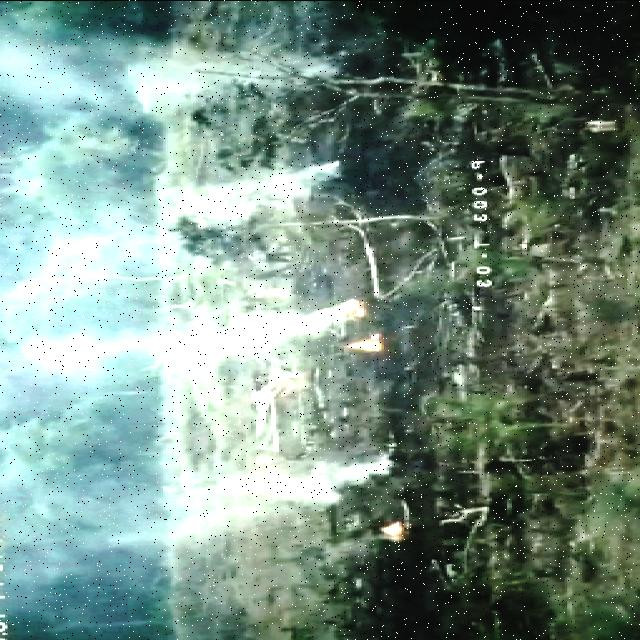asap: (9, 299, 383, 375), (1, 22, 355, 102), (147, 151, 373, 225), (177, 444, 403, 512)
